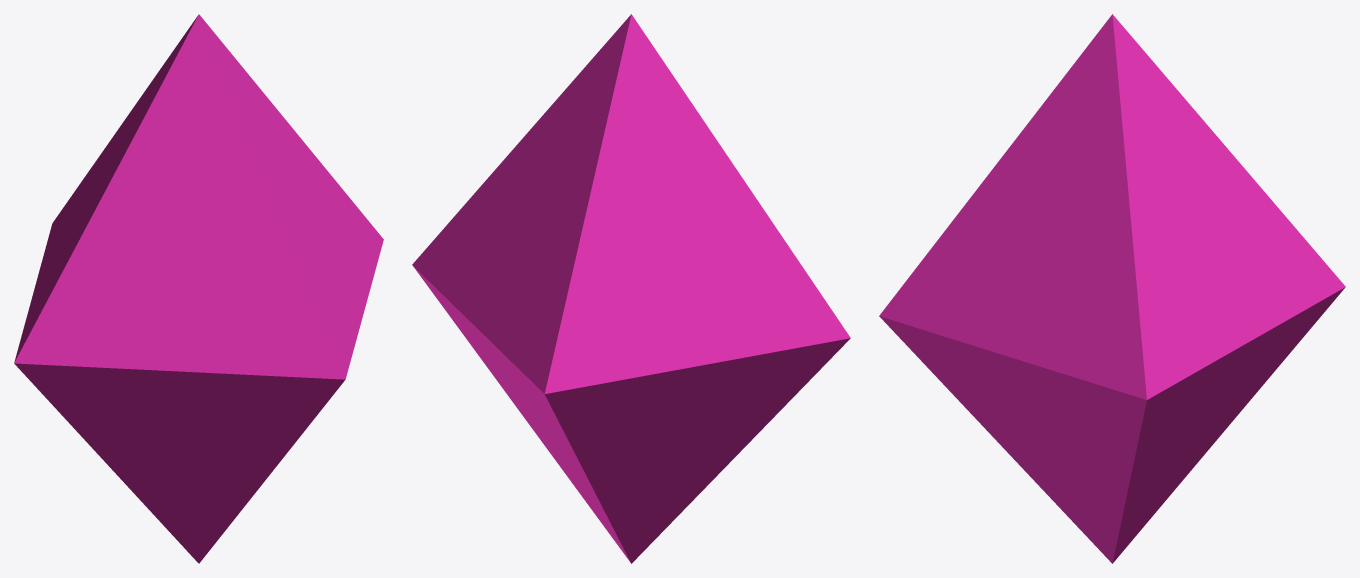
File: elmas_animation_.fbx
3 views of the same model, side by side, from view 1: azimuth 30°, elevation 25°; view 2: azimuth 150°, elevation 25°; view 3: azimuth 270°, elevation 25° (orthographic).
Parts seen in each view (by area): view 1: Cone.001; view 2: Cone.001; view 3: Cone.001.
Boxes of the visible parts, left/top/right/bottom form: Cone.001: left=14, top=14, right=383, bottom=563; Cone.001: left=412, top=14, right=850, bottom=563; Cone.001: left=879, top=14, right=1345, bottom=563.
Size of the model in its own units: 198 by 257 by 198.
